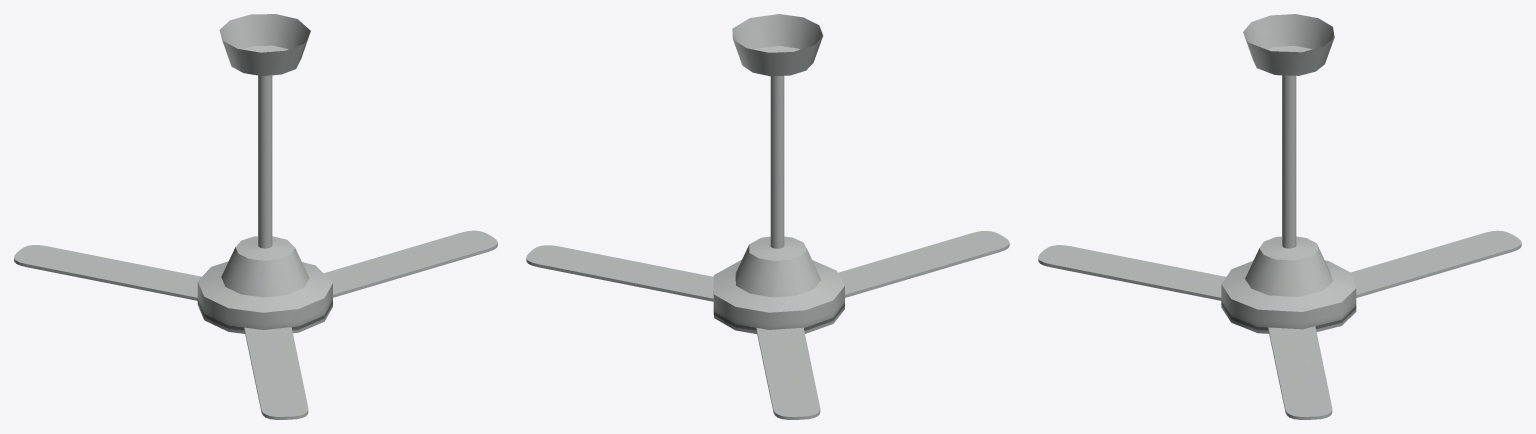
The model's file is Fan.FBX.
3 renders of one model, left to right at view 1: azimuth 30°, elevation 25°; view 2: azimuth 150°, elevation 25°; view 3: azimuth 270°, elevation 25°, orthographic.
Parts seen in each view (by area): view 1: Fan_002, Fan_holder_002; view 2: Fan_002, Fan_holder_002; view 3: Fan_002, Fan_holder_002.
Part boxes in pixels (<box>): Fan_002: <box>14,75,497,419</box>; Fan_holder_002: <box>219,14,310,75</box>; Fan_002: <box>526,76,1009,419</box>; Fan_holder_002: <box>732,14,823,76</box>; Fan_002: <box>1038,75,1521,419</box>; Fan_holder_002: <box>1243,14,1334,75</box>.
Size of the model in its own units: 32.21 by 22.75 by 35.34.
